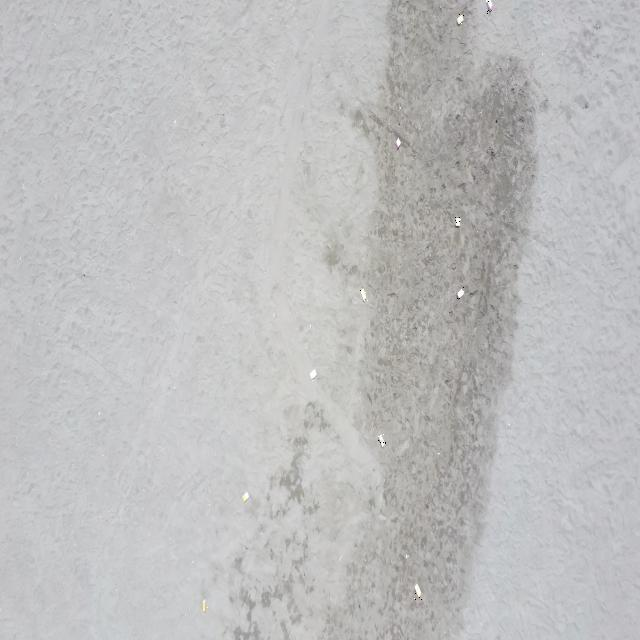Garbage: (455, 287, 464, 299), (376, 433, 384, 446), (455, 12, 463, 24), (308, 368, 316, 379), (200, 600, 207, 612), (415, 583, 420, 599), (360, 287, 366, 300), (453, 216, 460, 227), (486, 0, 492, 12), (241, 492, 248, 502), (395, 136, 400, 148), (435, 451, 440, 455), (404, 553, 407, 557)
